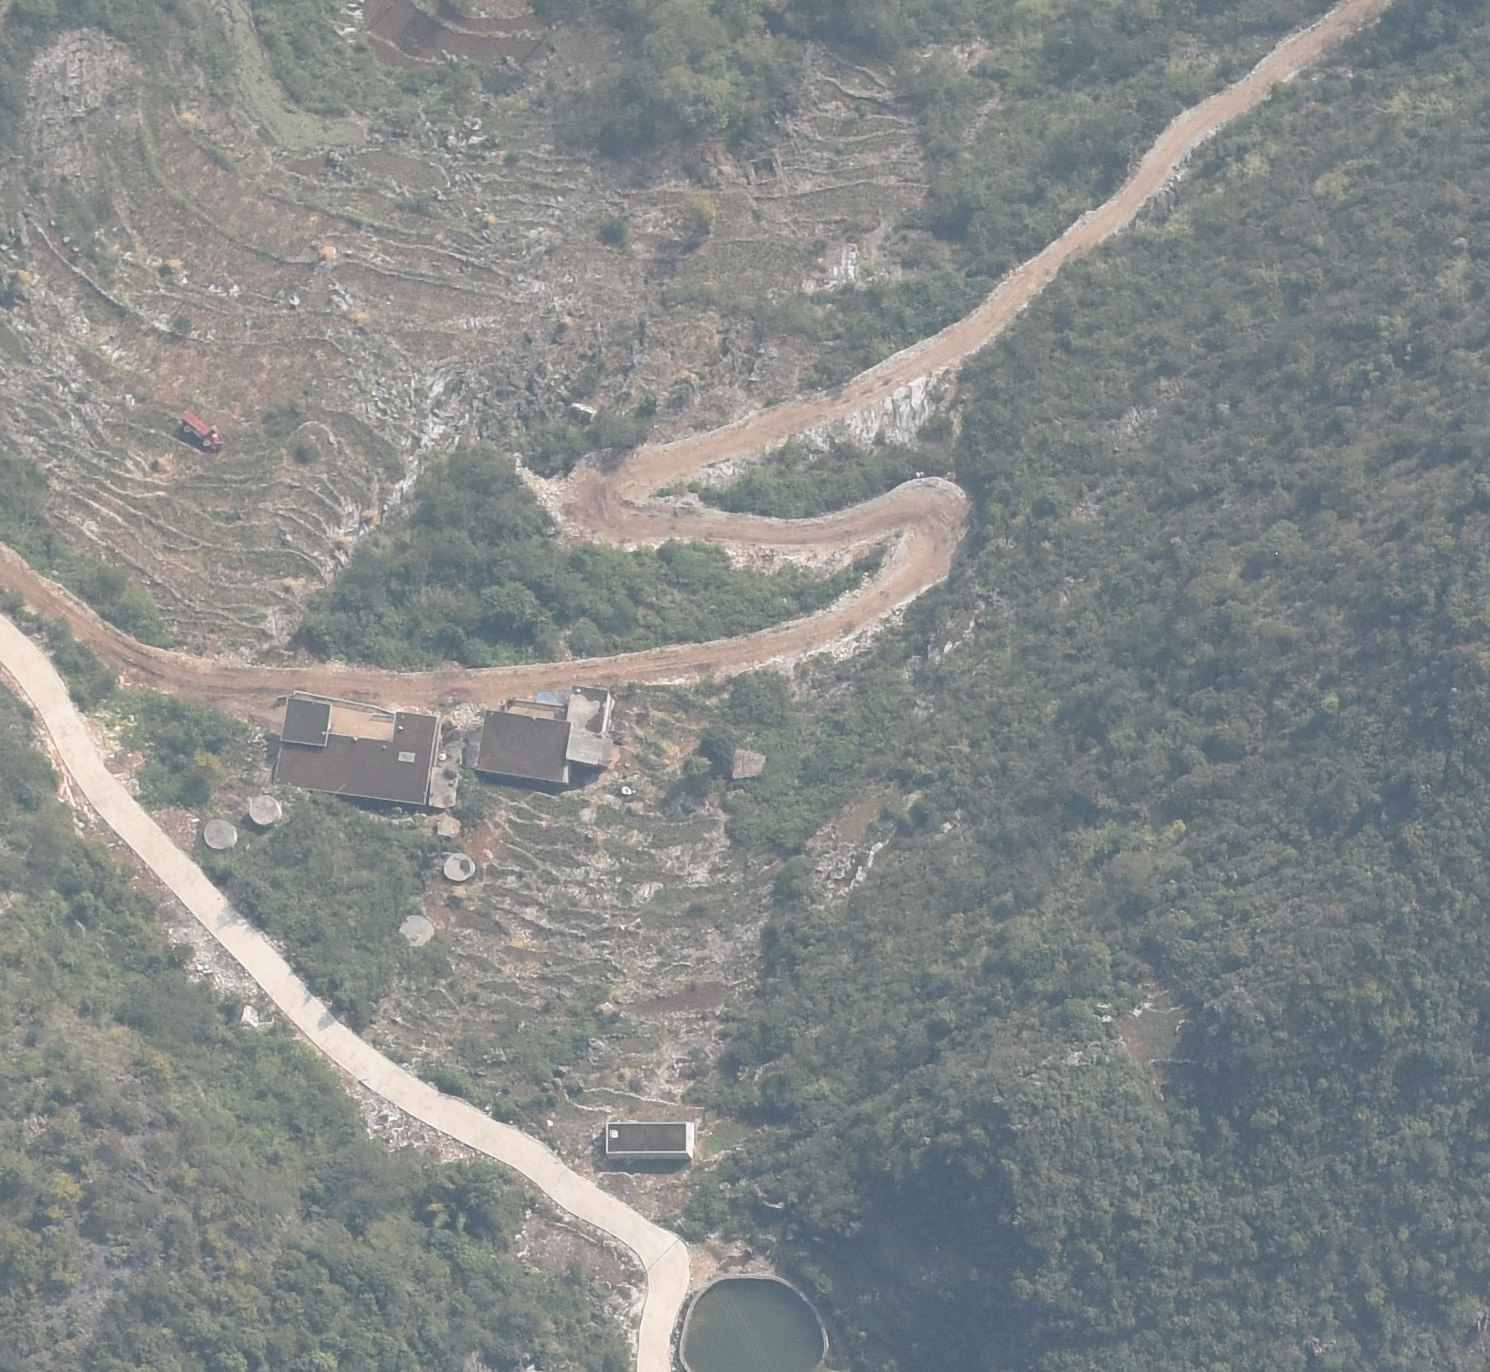building: (271, 687, 444, 808), (475, 682, 625, 785), (602, 1116, 699, 1165)
pool: (670, 1268, 839, 1372)
vehicle: (180, 409, 220, 452)
well: (197, 818, 241, 856), (245, 792, 285, 832), (398, 913, 436, 947), (441, 849, 474, 883)
